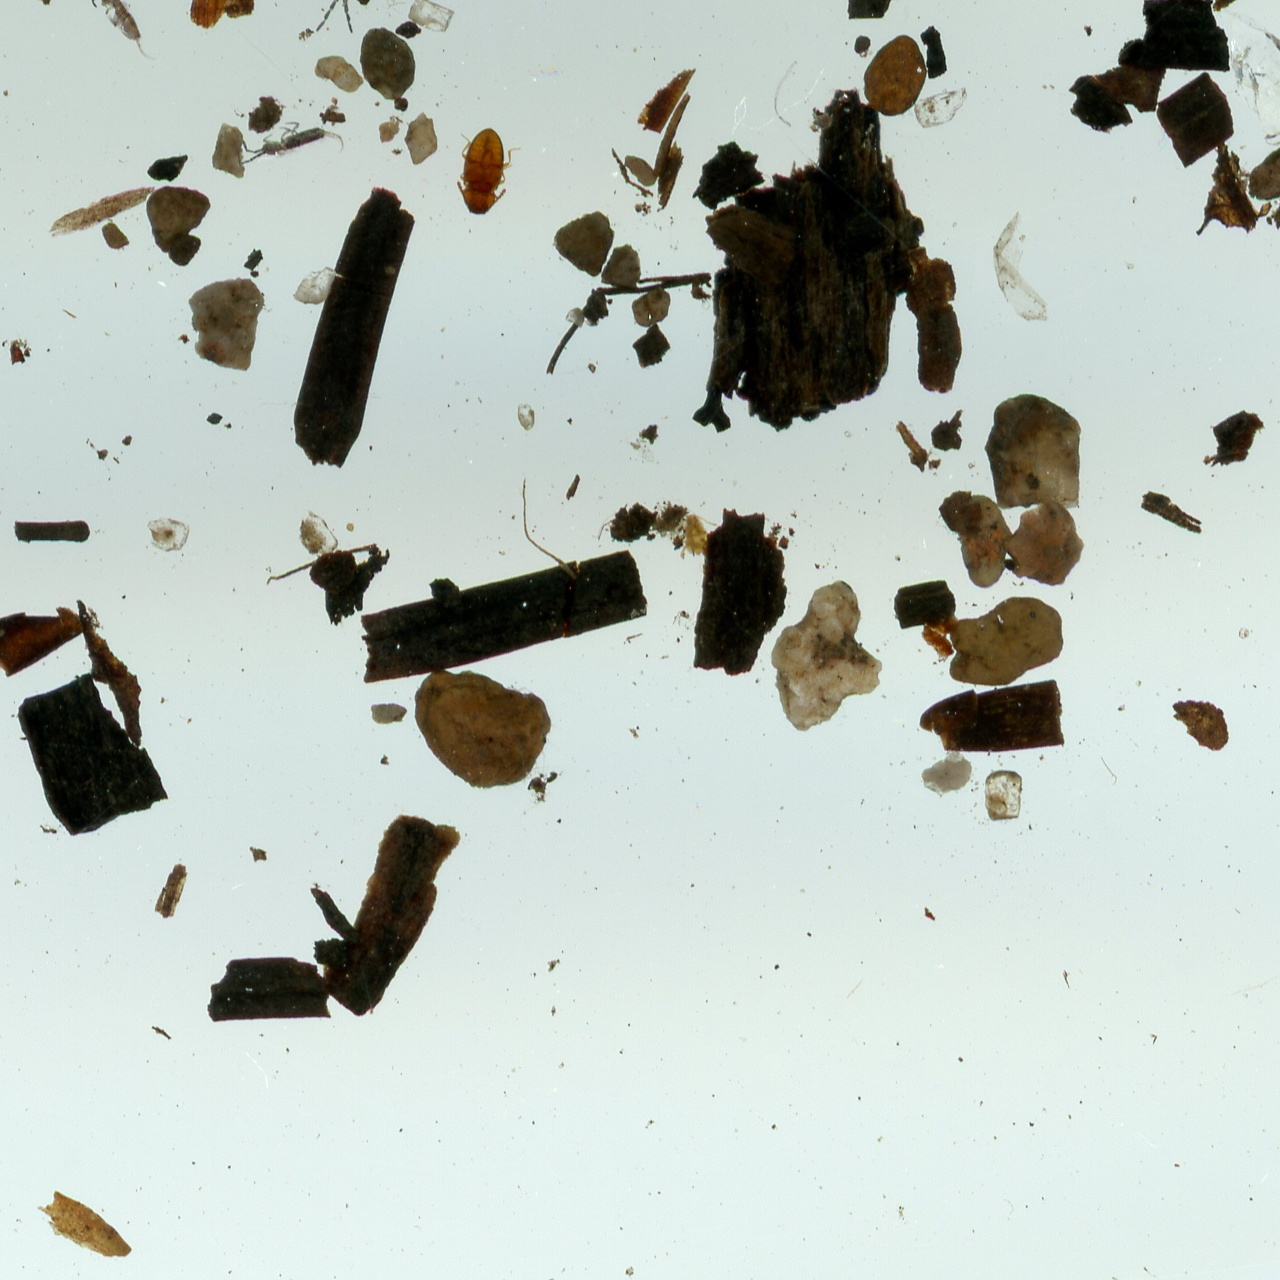arthropod: (231, 107, 349, 179), (455, 123, 524, 217), (87, 0, 161, 64), (314, 0, 386, 43), (680, 512, 726, 564)
